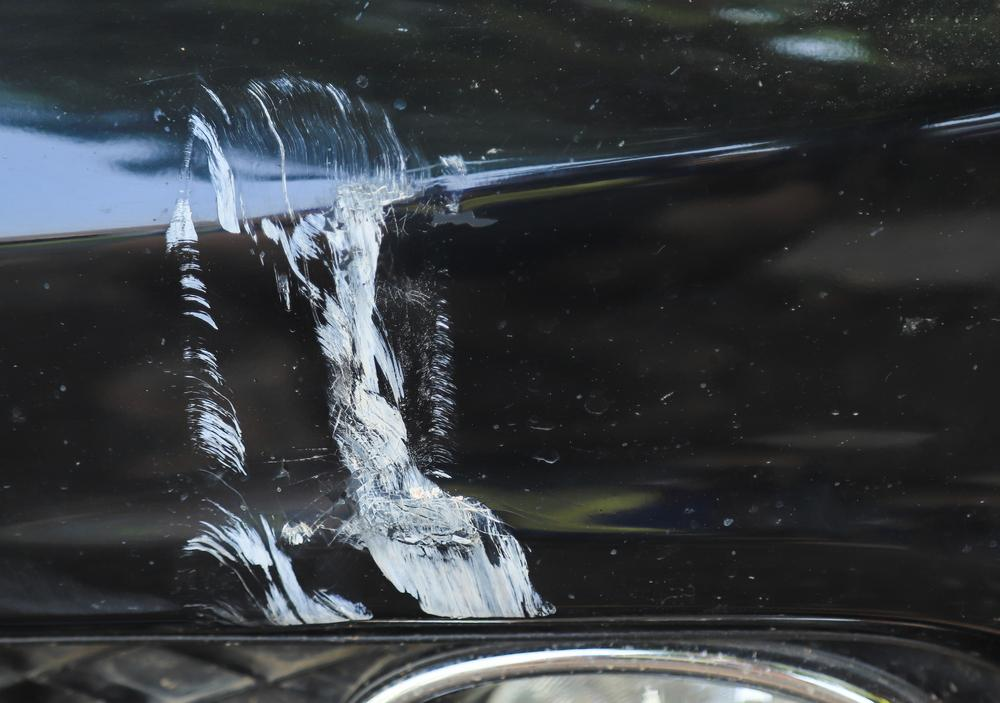scratch: (159, 73, 566, 627)
